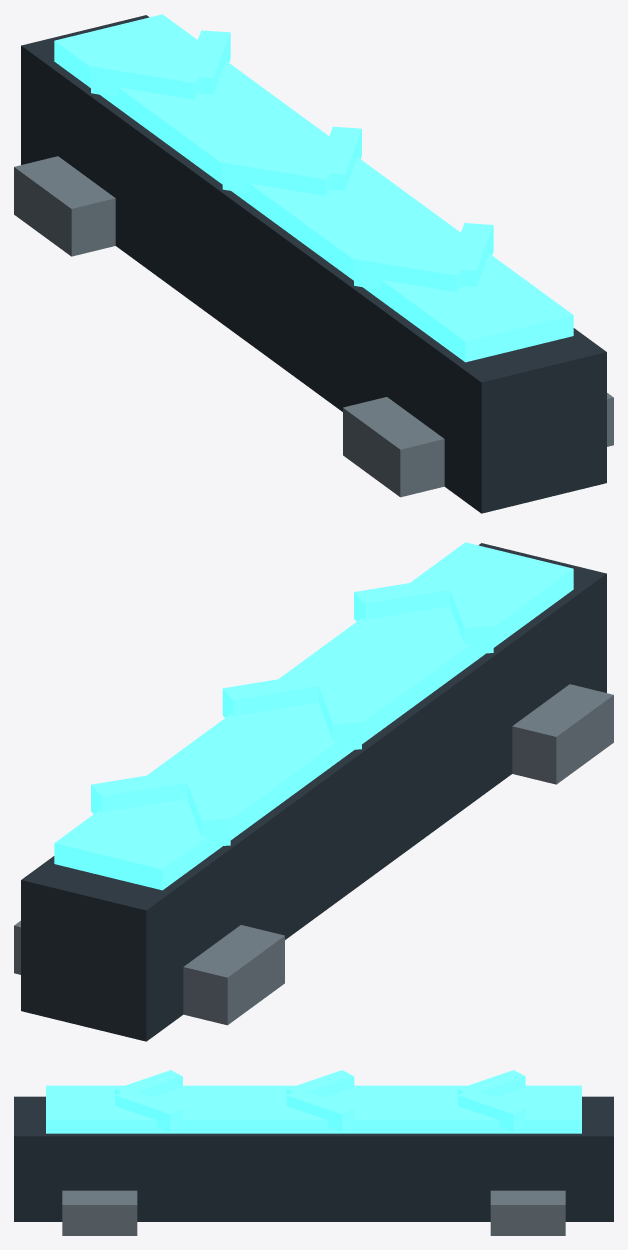
The model's file is vrx_track_guidance_a_LOD1.fbx.
3 views of the same model, one above another, from view 1: azimuth 30°, elevation 25°; view 2: azimuth 150°, elevation 25°; view 3: azimuth 270°, elevation 25° (orthographic). The views are drawn at different scales.
Parts seen in each view (by area): view 1: vrx_track_guidance_a_LOD1; view 2: vrx_track_guidance_a_LOD1; view 3: vrx_track_guidance_a_LOD1.
Part boxes in pixels (x1,y1,x2,y2): vrx_track_guidance_a_LOD1: (14,14,613,513); vrx_track_guidance_a_LOD1: (14,542,613,1041); vrx_track_guidance_a_LOD1: (14,1070,613,1235).
Size of the model in its own units: 0.75 by 0.565 by 2.8.
